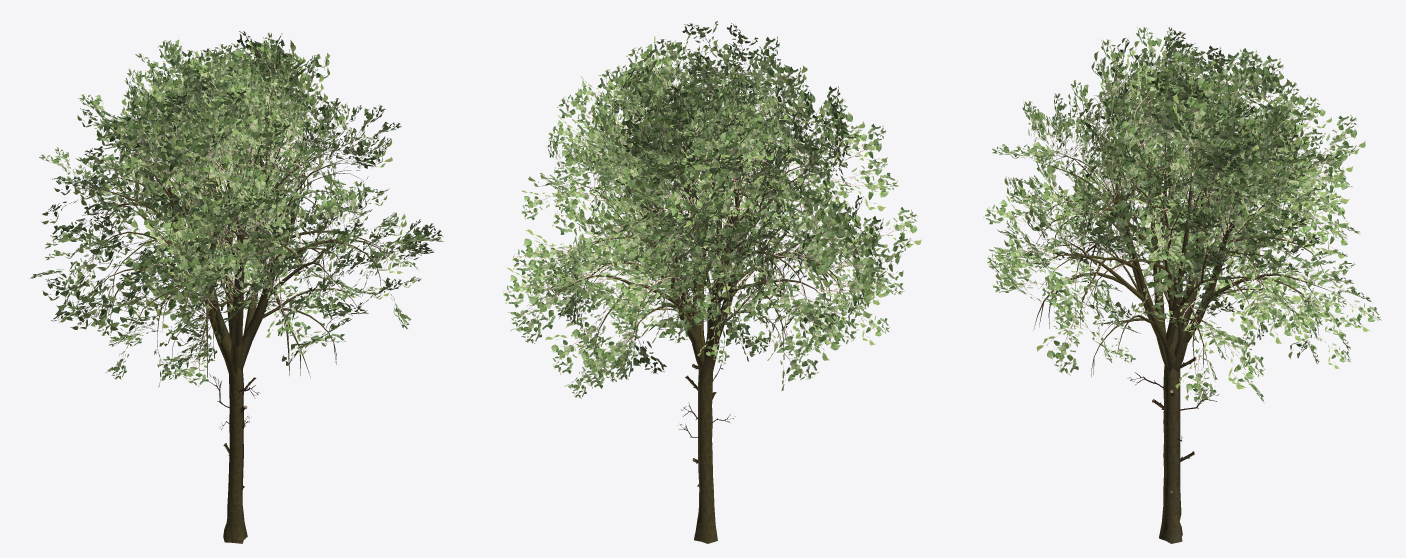
File: Tree.fbx
3 views of the same model, side by side, from view 1: azimuth 30°, elevation 25°; view 2: azimuth 150°, elevation 25°; view 3: azimuth 270°, elevation 25° (orthographic).
Visible parts, largest first — view 1: Plane.029; view 2: Plane.029; view 3: Plane.029.
Part boxes in pixels (x1,y1,x2,y2): Plane.029: (29, 31, 444, 543); Plane.029: (503, 21, 922, 543); Plane.029: (983, 27, 1381, 543).
Bounding box in the file's own units: 758 × 1016 × 760.
